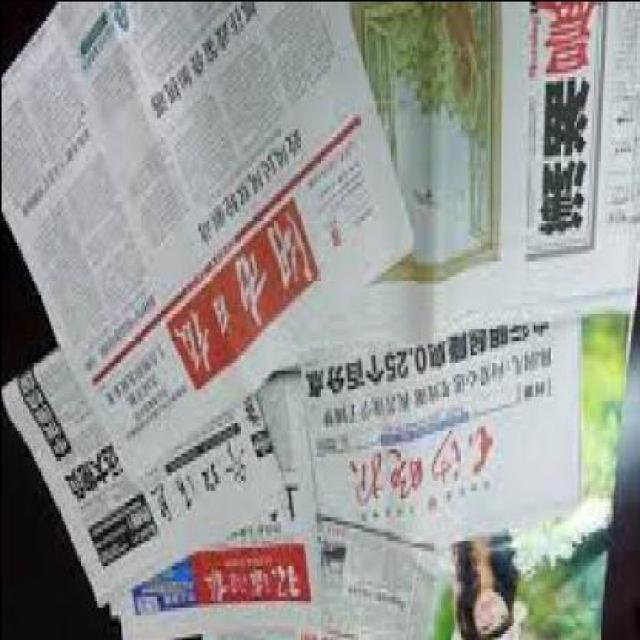PAPER: (2, 4, 415, 485), (270, 3, 638, 352), (1, 346, 288, 611), (294, 316, 584, 546), (437, 323, 631, 639), (110, 377, 324, 632), (300, 523, 437, 639)
